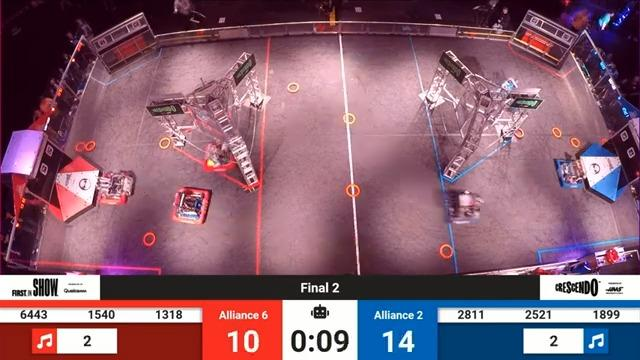robot: (436, 186, 489, 230), (87, 169, 139, 212), (170, 183, 214, 228), (552, 151, 594, 191), (203, 137, 238, 177), (493, 73, 521, 106)
